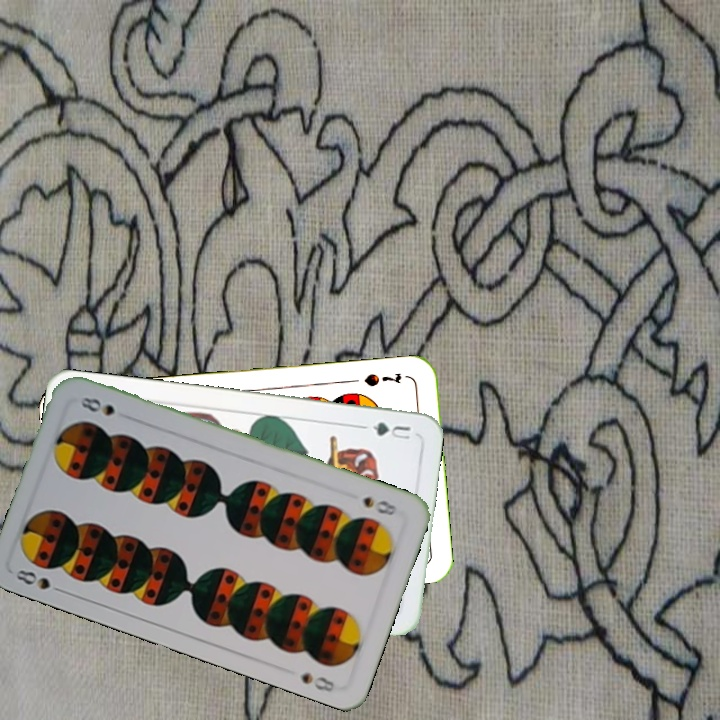GU: (368, 418, 413, 442)
S7: (360, 368, 404, 389)
S8: (12, 565, 68, 597), (359, 492, 400, 519)
